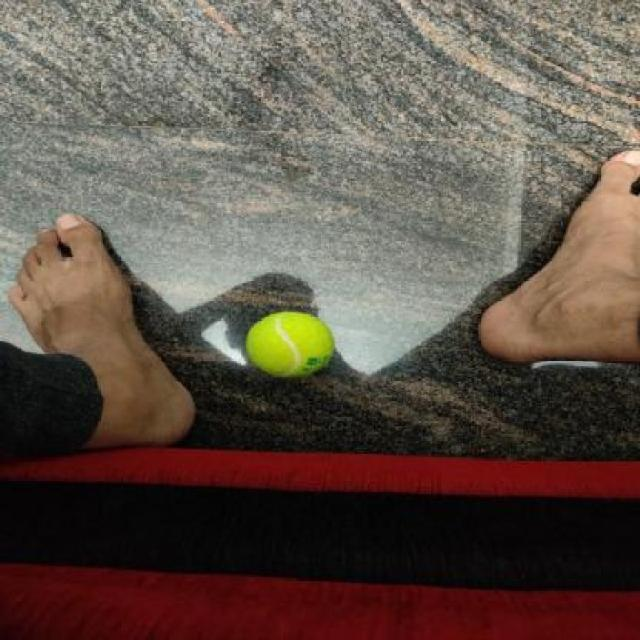-: (215, 278, 401, 416)
